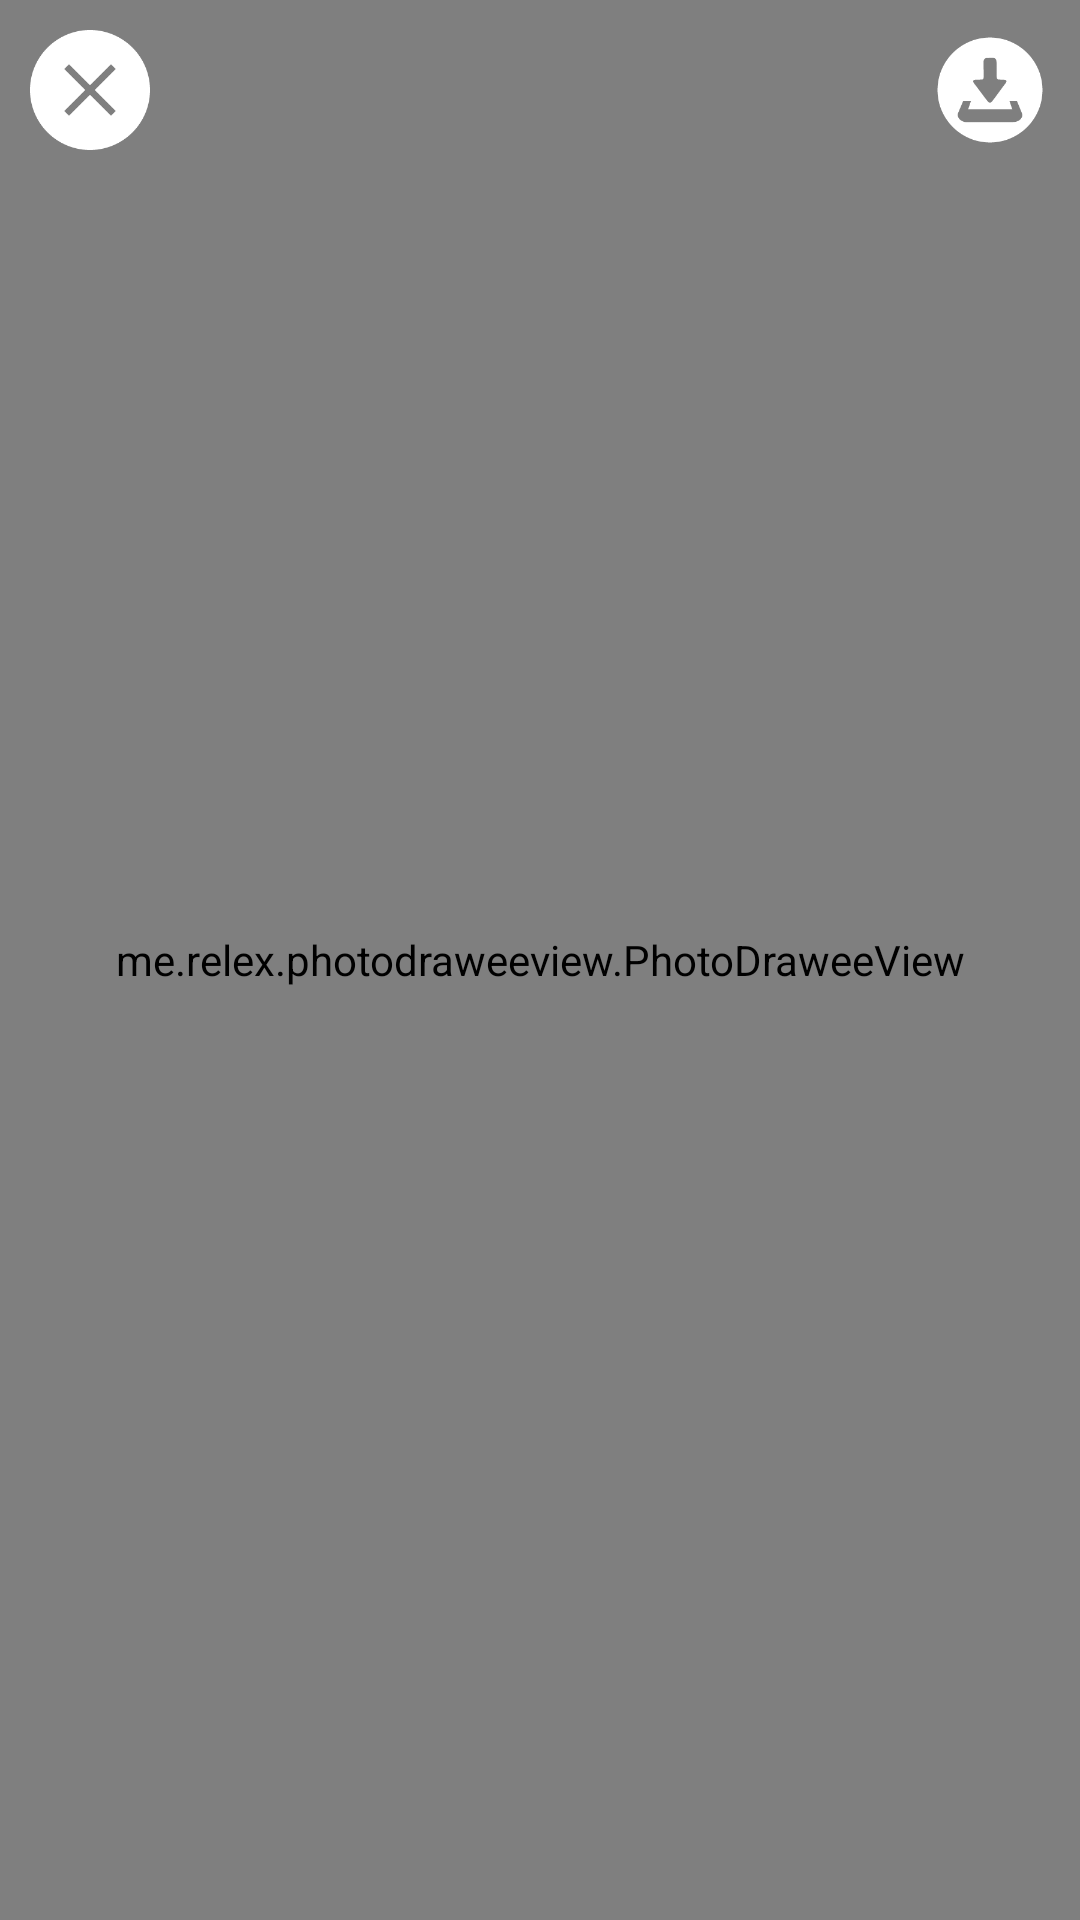

Icon click points for this 1080 x 1920 phone screenshot, format point (x, y):
pop close: point (90, 90)
pop save: point (990, 90)
